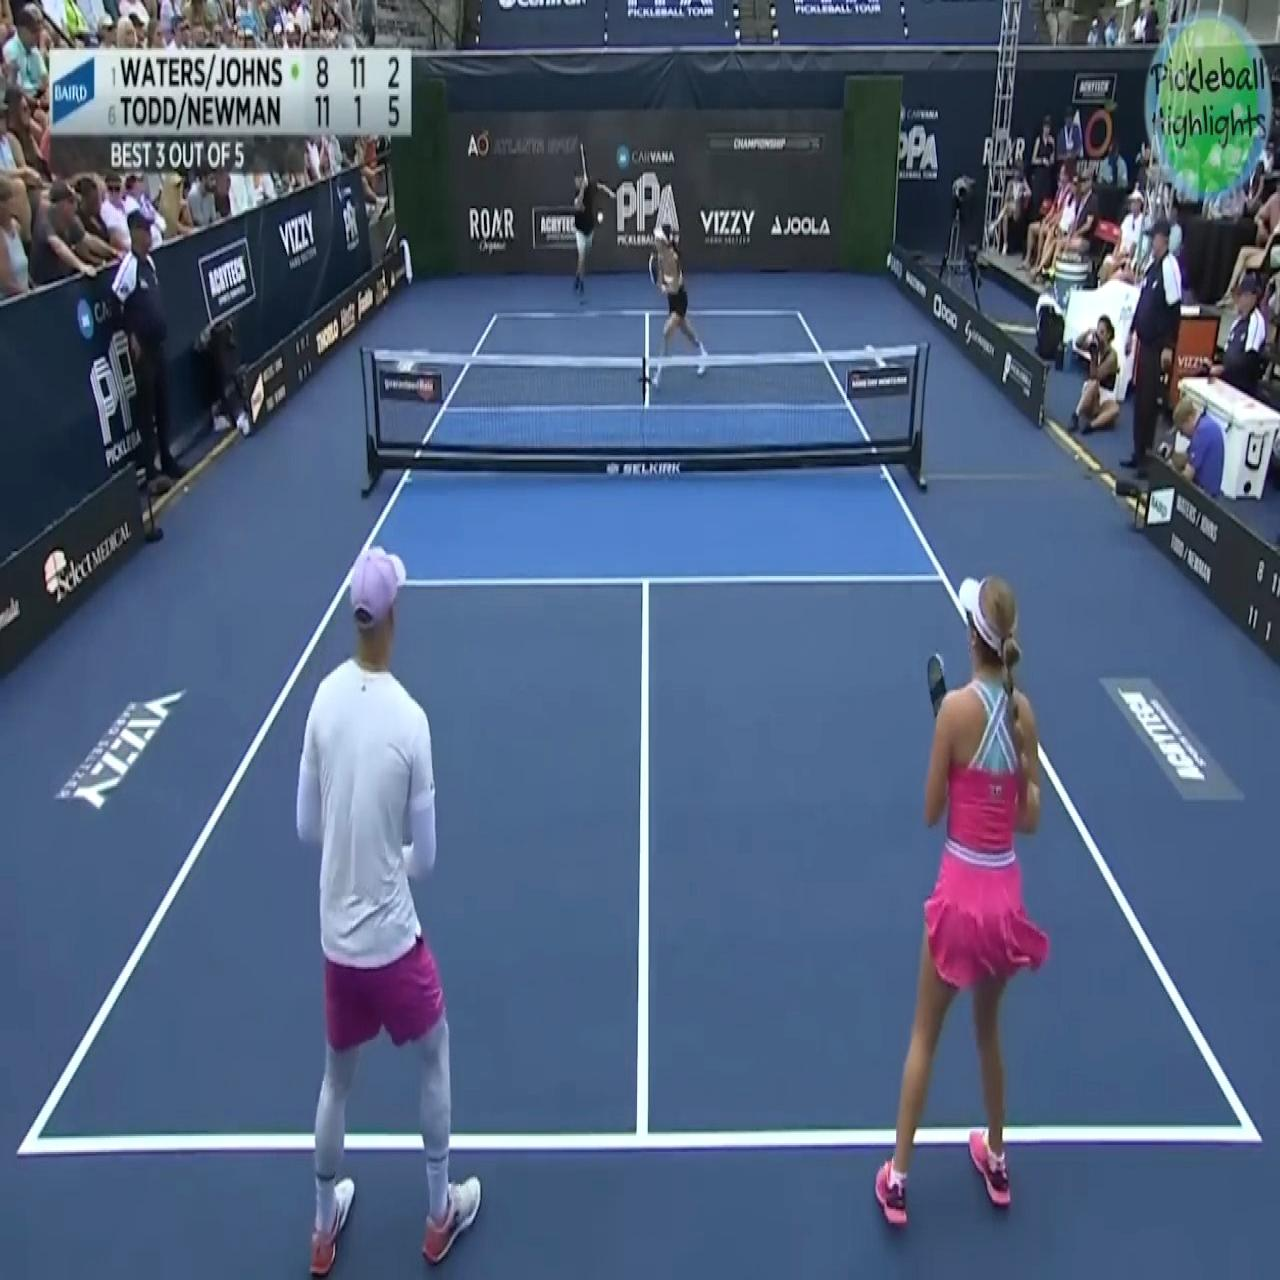Pickleball: (594, 206, 605, 224)
